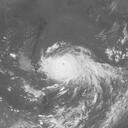cyclone: (39, 42, 92, 86)
